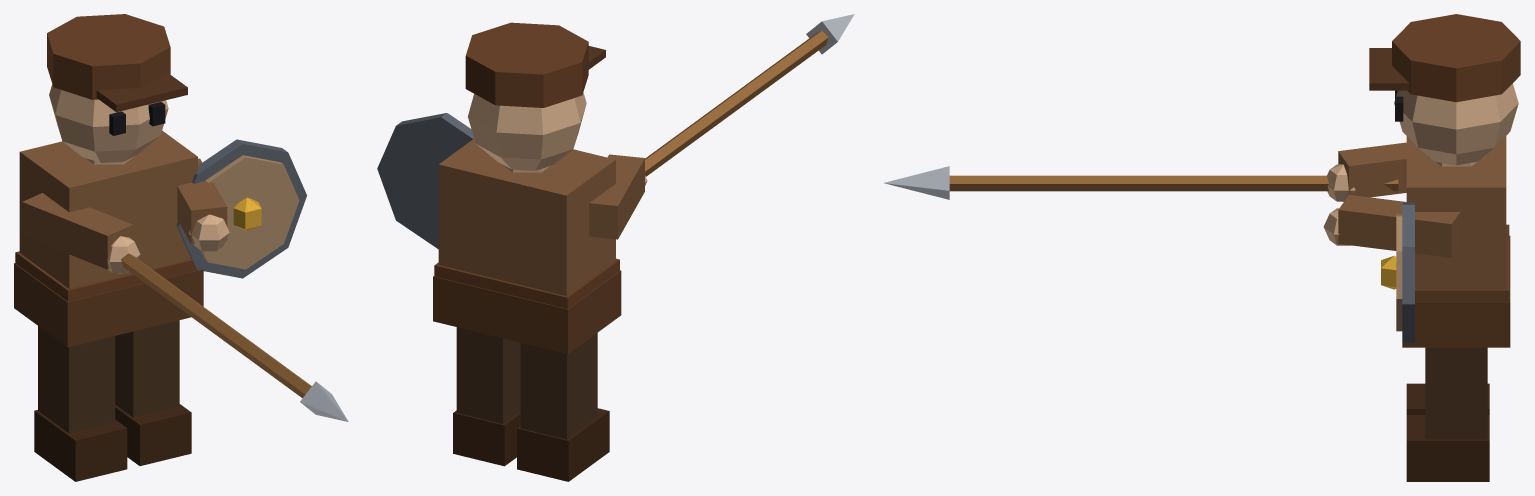
File: u_squire.fbx
3 views of the same model, side by side, from view 1: azimuth 30°, elevation 25°; view 2: azimuth 150°, elevation 25°; view 3: azimuth 270°, elevation 25° (orthographic).
Visible parts, largest first — view 1: u_squire_Body, u_squire_LegR, u_squire_LegL; view 2: u_squire_Body, u_squire_LegR, u_squire_LegL; view 3: u_squire_Body, u_squire_LegL, u_squire_LegR.
Part boxes in pixels (bbox=[...]): u_squire_Body: bbox=[14, 14, 348, 421]; u_squire_LegR: bbox=[34, 326, 127, 481]; u_squire_LegL: bbox=[115, 320, 191, 465]; u_squire_Body: bbox=[377, 14, 854, 353]; u_squire_LegR: bbox=[517, 333, 609, 481]; u_squire_LegL: bbox=[453, 327, 520, 466]; u_squire_Body: bbox=[884, 14, 1520, 347]; u_squire_LegL: bbox=[1406, 347, 1489, 481]; u_squire_LegR: bbox=[1406, 383, 1489, 414].
Size of the model in its own units: 0.7289 by 1.09 by 1.53.
